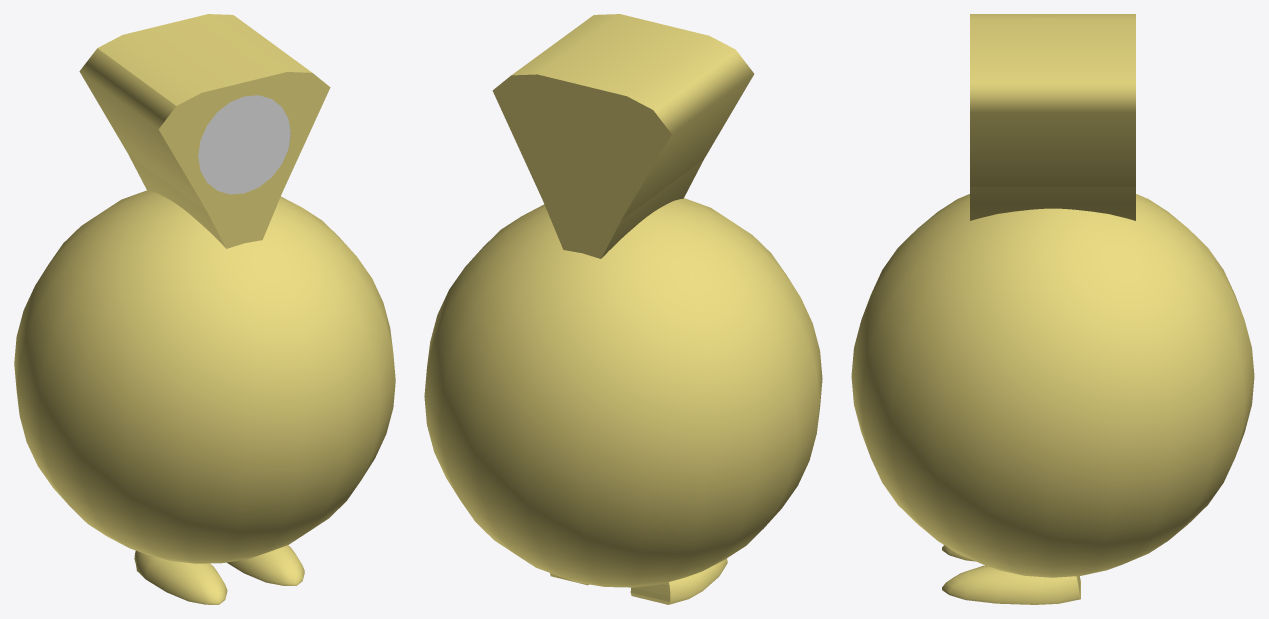
The model's file is friend2.fbx.
3 renders of one model, left to right at view 1: azimuth 30°, elevation 25°; view 2: azimuth 150°, elevation 25°; view 3: azimuth 270°, elevation 25°, orthographic. The views are drawn at different scales.
Parts seen in each view (by area): view 1: pSphere12, pCube3, pSphere5, pSphere3; view 2: pSphere12, pCube3, pSphere5; view 3: pSphere12, pCube3, pSphere3.
Boxes of the visible parts, box(x1,y1,x2,y2) form: pSphere12: box(14, 190, 395, 563); pCube3: box(79, 14, 330, 248); pSphere5: box(134, 550, 227, 604); pSphere3: box(227, 545, 304, 585); pSphere12: box(424, 198, 822, 587); pCube3: box(492, 14, 754, 258); pSphere5: box(630, 558, 727, 604); pSphere12: box(851, 194, 1254, 577); pCube3: box(970, 14, 1135, 220); pSphere3: box(942, 565, 1080, 604).
Size of the model in its own units: 4.29 by 6.21 by 4.29.
